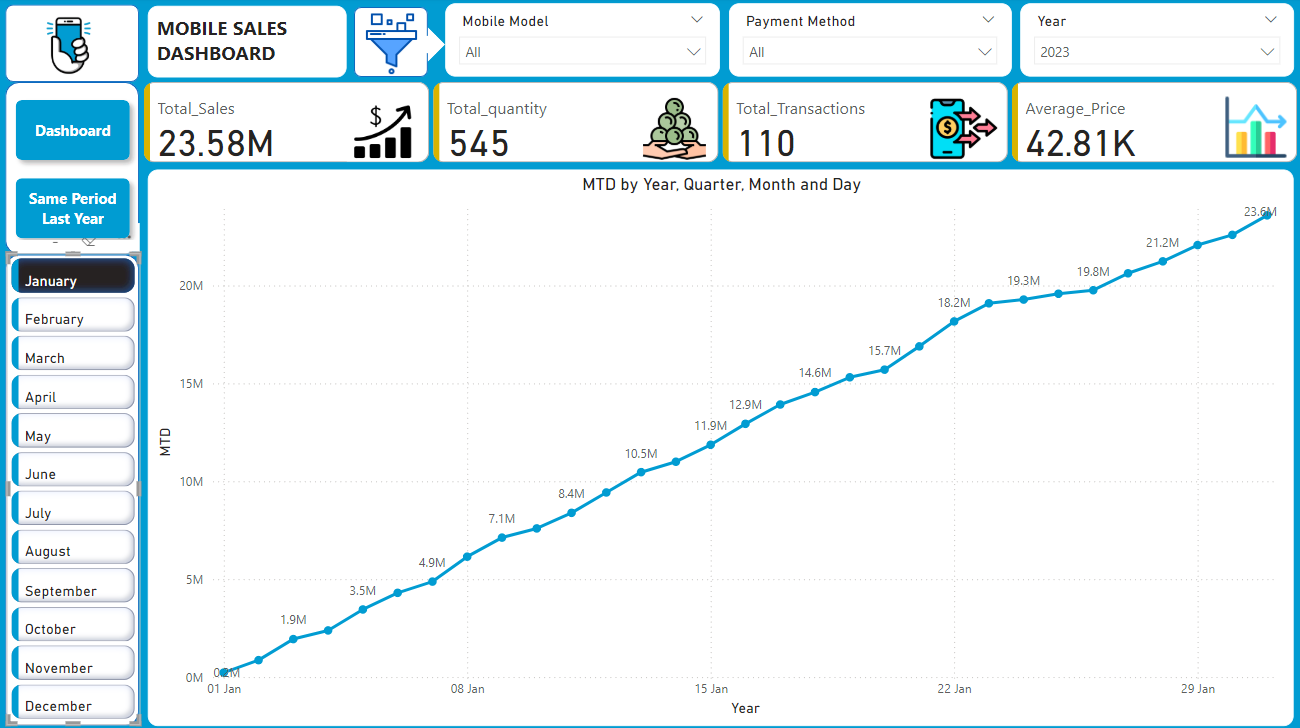

Layout of this report page (visuals, bound fields, positions):
{"tool":"powerbi","page":{"name":"MTD Report","canvas":[1280,720],"ordinal":1},"visuals":[{"type":"shape","box":[6.1,7.4,131.3,76.1],"z":0},{"type":"image","box":[0,6.2,136.2,82.5],"z":1000},{"type":"shape","box":[6.1,83.4,131.3,169.3],"z":2000},{"type":"cardVisual","fields":{"Data":["Sales_Data.Total_Sales","Sales_Data.Total_quantity","Sales_Data.Total_Transactions","Sales_Data.Average_Price"]},"box":[137.4,78.5,1142.3,89.6],"z":3000},{"type":"slicer","fields":{"Values":["Sales_Data.Mobile Model"]},"box":[438,6.1,269.9,72.4],"z":4000},{"type":"slicer","fields":{"Values":["Sales_Data.Payment Method"]},"box":[716.6,6.1,277.3,72.4],"z":5000},{"type":"slicer","fields":{"Values":["Custom_Calender.Date.Variation.Date Hierarchy.Year"]},"box":[1002.5,6.1,268.7,72.4],"z":6000},{"type":"shape","box":[348.8,10,72.5,68.8],"z":7000},{"type":"shape","box":[402.5,29.4,35.6,34.4],"z":8000},{"type":"image","box":[350,0,71.2,92.5],"z":9000},{"type":"textbox","box":[146.2,8.8,195,70],"z":10000},{"type":"shape","box":[6.2,252.5,131.2,462.5],"z":10500},{"type":"lineChart","fields":{"Y":["Sales_Data.MTD"],"Category":["Custom_Calender.Date.Variation.Date Hierarchy.Year","Custom_Calender.Date.Variation.Date Hierarchy.Quarter","Custom_Calender.Date.Variation.Date Hierarchy.Month","Custom_Calender.Date.Variation.Date Hierarchy.Day"]},"box":[146.2,168.8,1125,546.2],"z":11000},{"type":"advancedSlicerVisual","fields":{"Values":["Custom_Calender.Date.Variation.Date Hierarchy.Month"]},"box":[7.4,251.5,131.3,463.8],"z":13000},{"type":"pageNavigator","box":[7.4,92,130.1,146],"z":13001}]}

Visuals, with their boxes in screenshot pixels (x1, y1, x2, y2), scaled from the page's 1280x720 canvas onto the 1300x728 screenshot:
shape: (x1=6, y1=7, x2=140, y2=84)
image: (x1=0, y1=6, x2=138, y2=90)
shape: (x1=6, y1=84, x2=140, y2=256)
cardVisual - Sales_Data.Total_Sales x Sales_Data.Total_quantity: (x1=140, y1=79, x2=1299, y2=170)
slicer - Sales_Data.Mobile Model: (x1=445, y1=6, x2=719, y2=79)
slicer - Sales_Data.Payment Method: (x1=728, y1=6, x2=1009, y2=79)
slicer - Custom_Calender.Date.Variation.Date Hierarchy.Year: (x1=1018, y1=6, x2=1291, y2=79)
shape: (x1=354, y1=10, x2=428, y2=80)
shape: (x1=409, y1=30, x2=445, y2=65)
image: (x1=355, y1=0, x2=428, y2=94)
textbox: (x1=148, y1=9, x2=347, y2=80)
shape: (x1=6, y1=255, x2=140, y2=723)
lineChart - Sales_Data.MTD x Custom_Calender.Date.Variation.Date Hierarchy.Year: (x1=148, y1=171, x2=1291, y2=723)
advancedSlicerVisual - Custom_Calender.Date.Variation.Date Hierarchy.Month: (x1=8, y1=254, x2=141, y2=723)
pageNavigator: (x1=8, y1=93, x2=140, y2=241)
